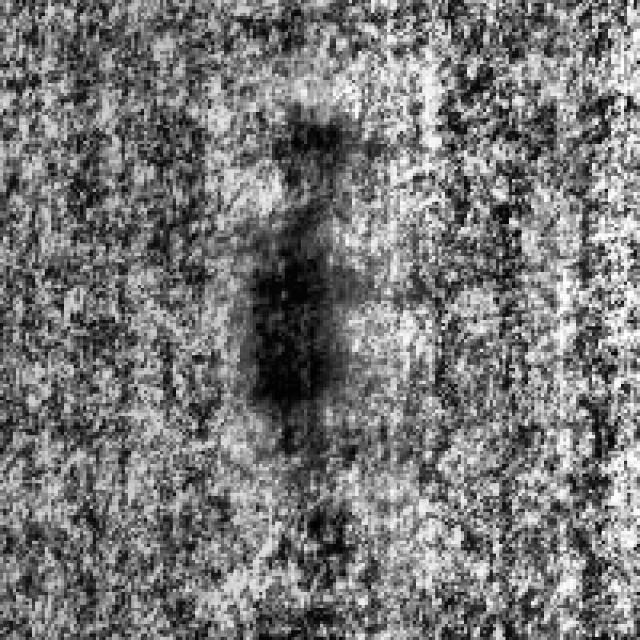Scratches: (236, 211, 342, 442)
